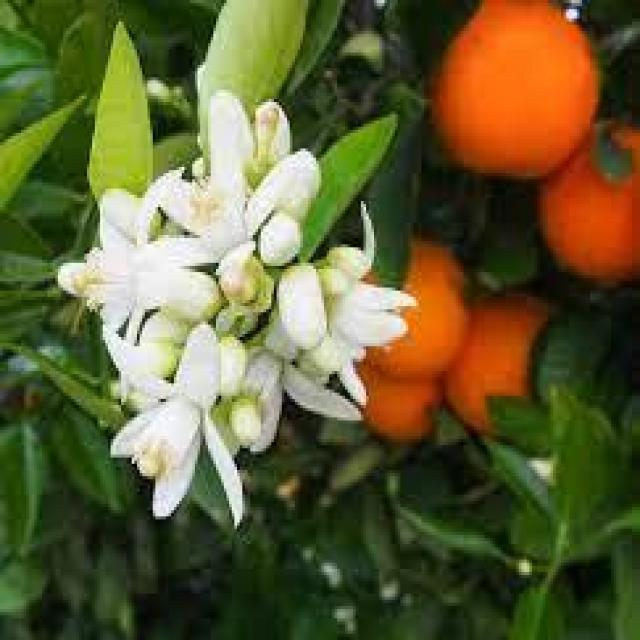Bunga: (100, 334, 245, 529), (145, 145, 303, 263), (329, 204, 419, 411), (202, 92, 314, 216), (56, 216, 142, 331), (210, 362, 276, 452), (274, 262, 324, 350), (144, 269, 218, 322), (102, 188, 160, 238), (258, 213, 300, 266)
Jeruk Sudah Matang: (427, 0, 600, 173), (358, 235, 469, 374)
